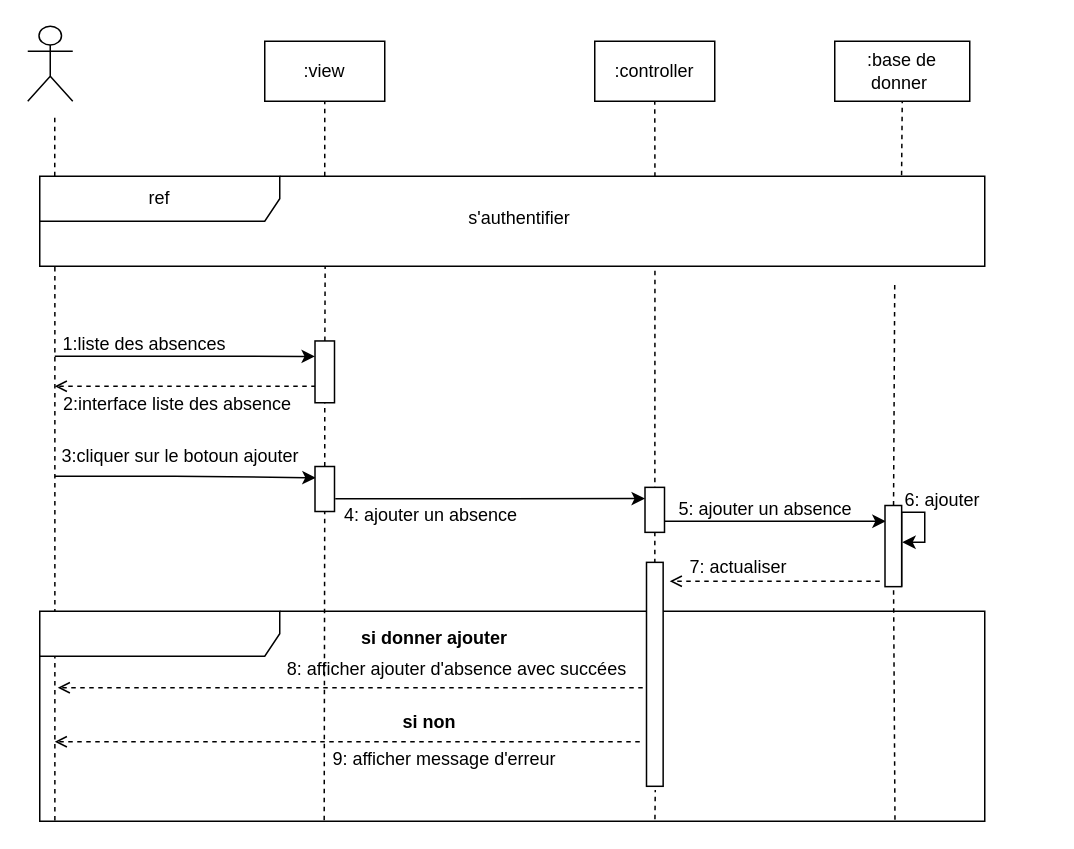
Some shapes in this 1074 by 849 pixel diagram are drawn without their labels. The box of each missing label's shape, as (x1, y1, x2, y2) in pixels:
admin: (26, 25, 73, 101)
atl: (38, 610, 985, 821)
